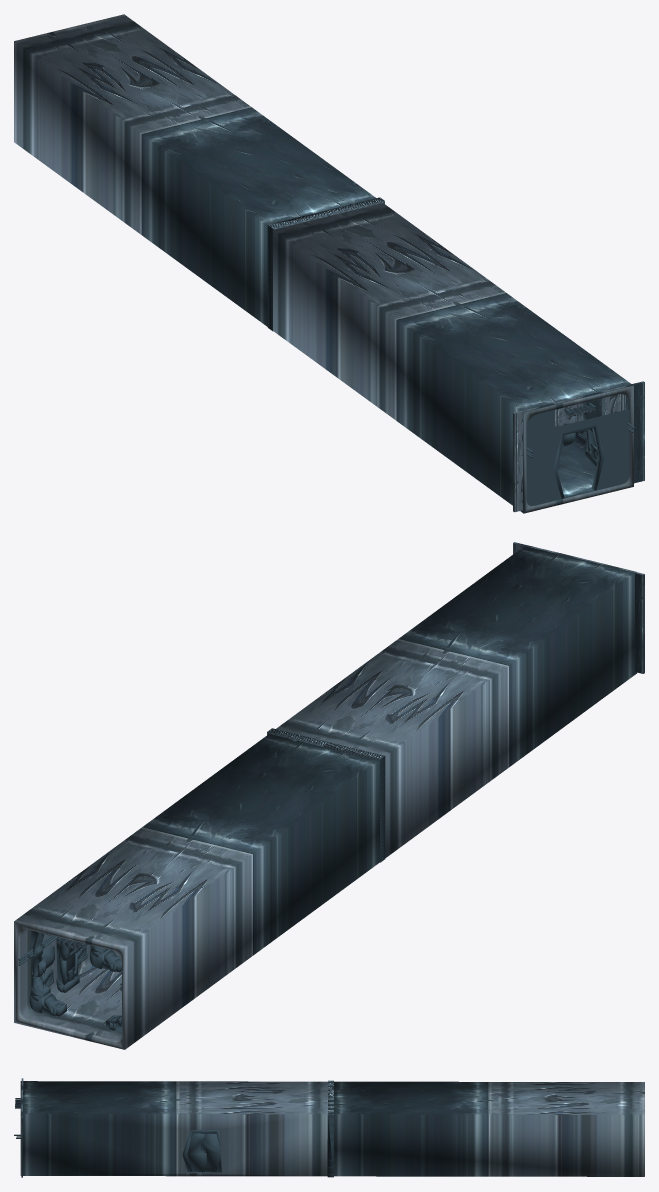
Rendered from hallway.FBX.
The picture shows the model from 3 angles, top to bottom: view 1: azimuth 30°, elevation 25°; view 2: azimuth 150°, elevation 25°; view 3: azimuth 270°, elevation 25°; orthographic projection. The views are drawn at different scales.
Visible parts, largest first — view 1: mesh, Box002; view 2: mesh, Box002; view 3: mesh, Box002.
Part boxes in pixels (bbox=[...]): mesh: bbox=[14, 14, 634, 513]; Box002: bbox=[513, 381, 644, 512]; mesh: bbox=[14, 546, 636, 1049]; Box002: bbox=[513, 542, 644, 673]; mesh: bbox=[14, 1080, 644, 1177]; Box002: bbox=[21, 1078, 23, 1177].
Size of the model in its own units: 30.2 by 22.87 by 207.
3 materials, 3 textured.
